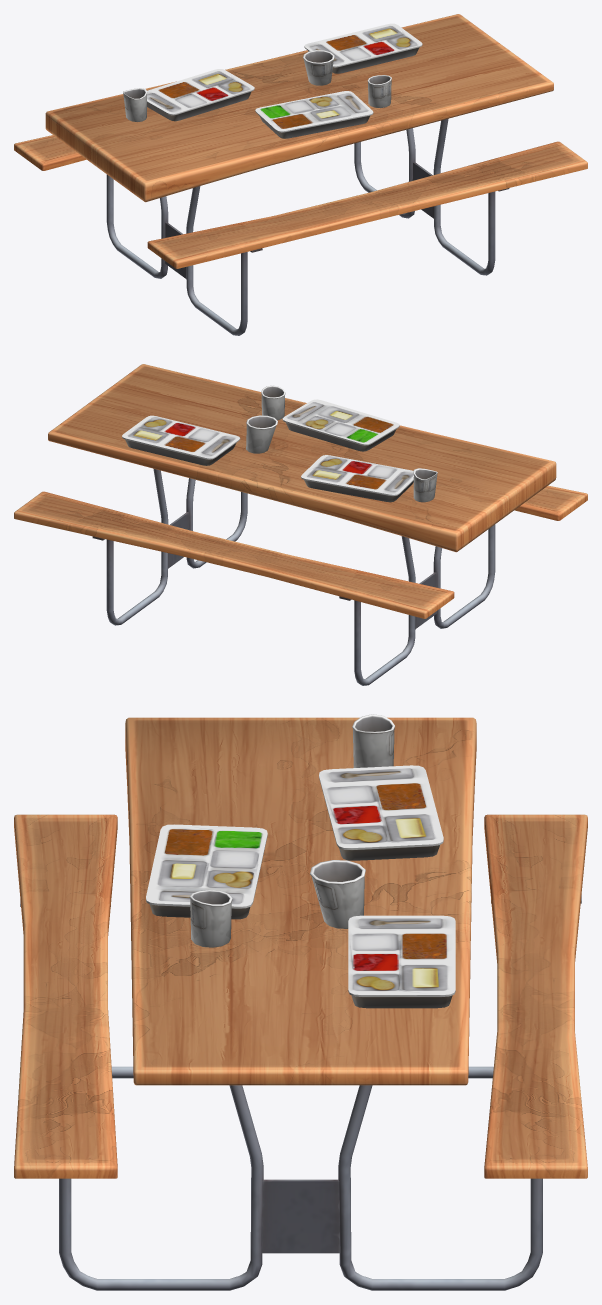
File: Table02_3.FBX
3 renders of one model, top to bottom at view 1: azimuth 30°, elevation 25°; view 2: azimuth 150°, elevation 25°; view 3: azimuth 270°, elevation 25°, orthographic. The views are drawn at different scales.
Parts seen in each view (by area): view 1: Table02_3; view 2: Table02_3; view 3: Table02_3.
Part boxes in pixels (x1,y1,x2,y2): Table02_3: [14, 14, 587, 335]; Table02_3: [14, 364, 587, 685]; Table02_3: [14, 714, 587, 1290].
Size of what is drawn, in the model's own units: 2 by 0.8889 by 1.37.
